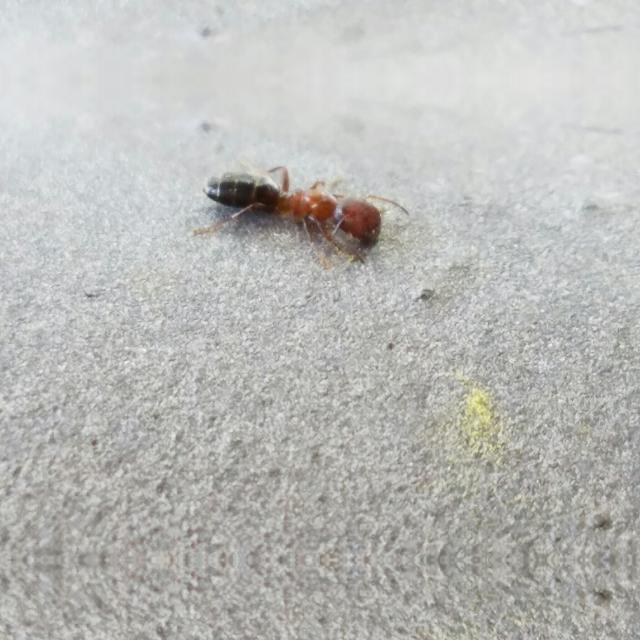Colobopsis: (192, 153, 404, 260)
